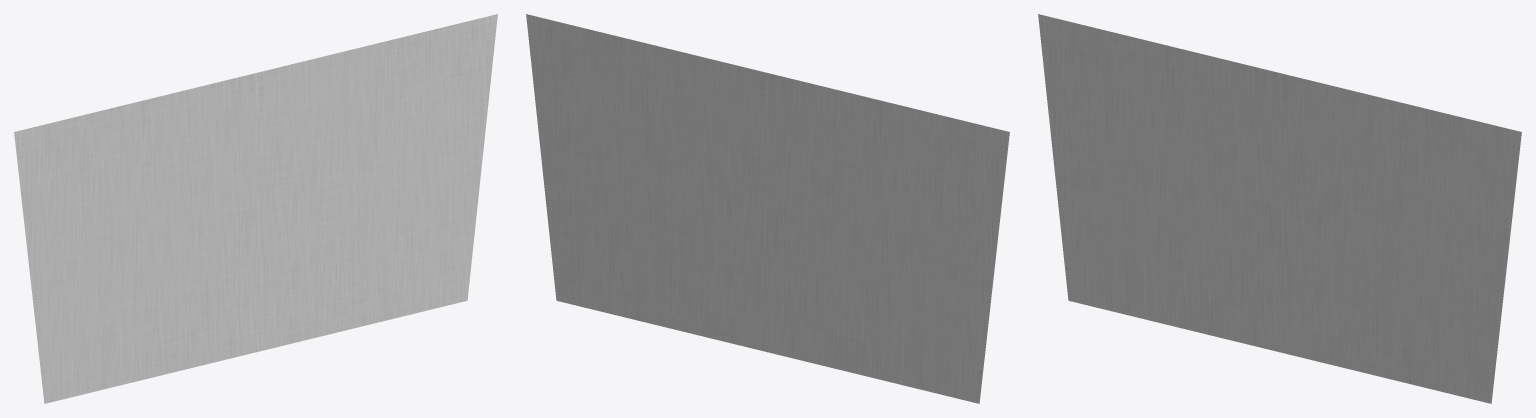
File: HQsail.fbx
The picture shows the model from 3 angles, left to right: view 1: azimuth 30°, elevation 25°; view 2: azimuth 150°, elevation 25°; view 3: azimuth 330°, elevation 25°; orthographic projection.
Visible parts, largest first — view 1: Sail; view 2: Sail; view 3: Sail.
Part boxes in pixels (x1,y1,x2,y2): Sail: (14, 14, 497, 403); Sail: (526, 14, 1009, 403); Sail: (1038, 14, 1521, 403).
Size of the model in its own units: 6.41 by 0 by 3.54.
Materials: 1 (1 with a texture image).
